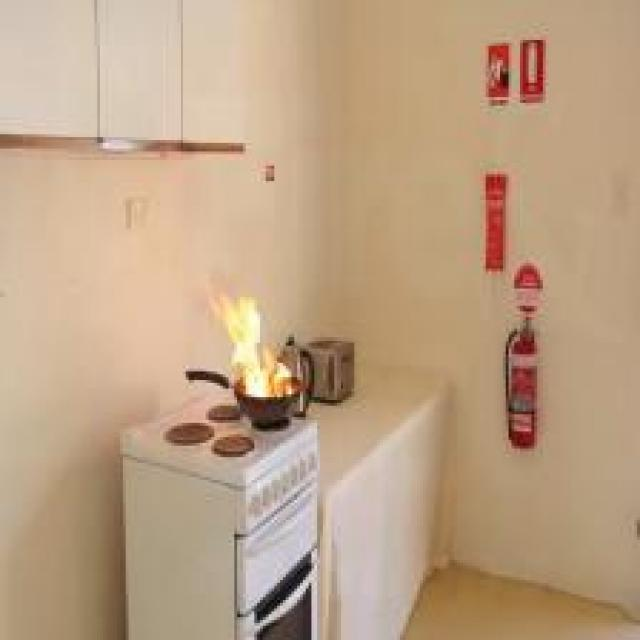smoke: (212, 297, 296, 397)
